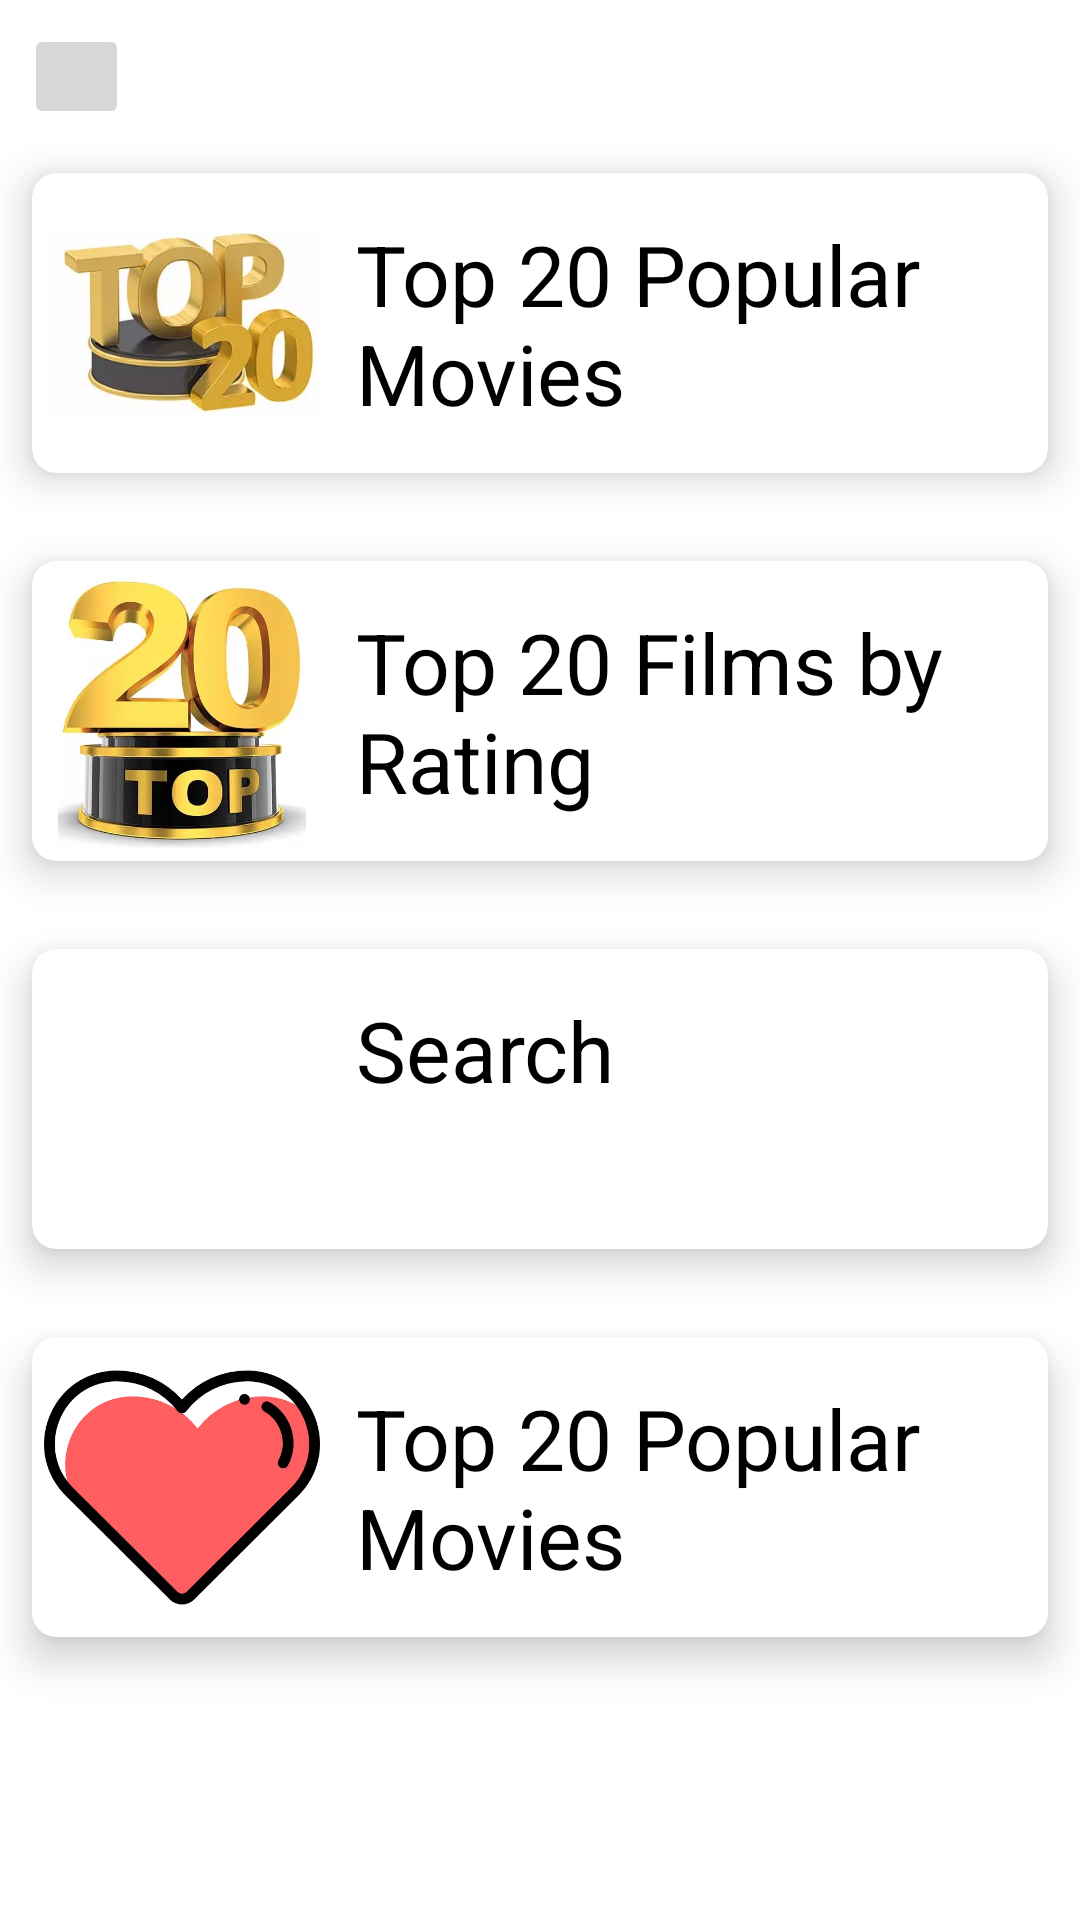

Icon click points for this 1080px x 1920px phone screenshot, format (x=x, y=y):
favorite: (x=182, y=1487)
